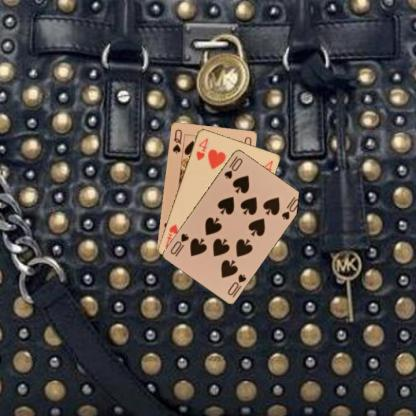10s: (221, 153, 244, 180), (225, 271, 247, 296)
4h: (194, 135, 209, 162)
Qs: (170, 127, 183, 154)
